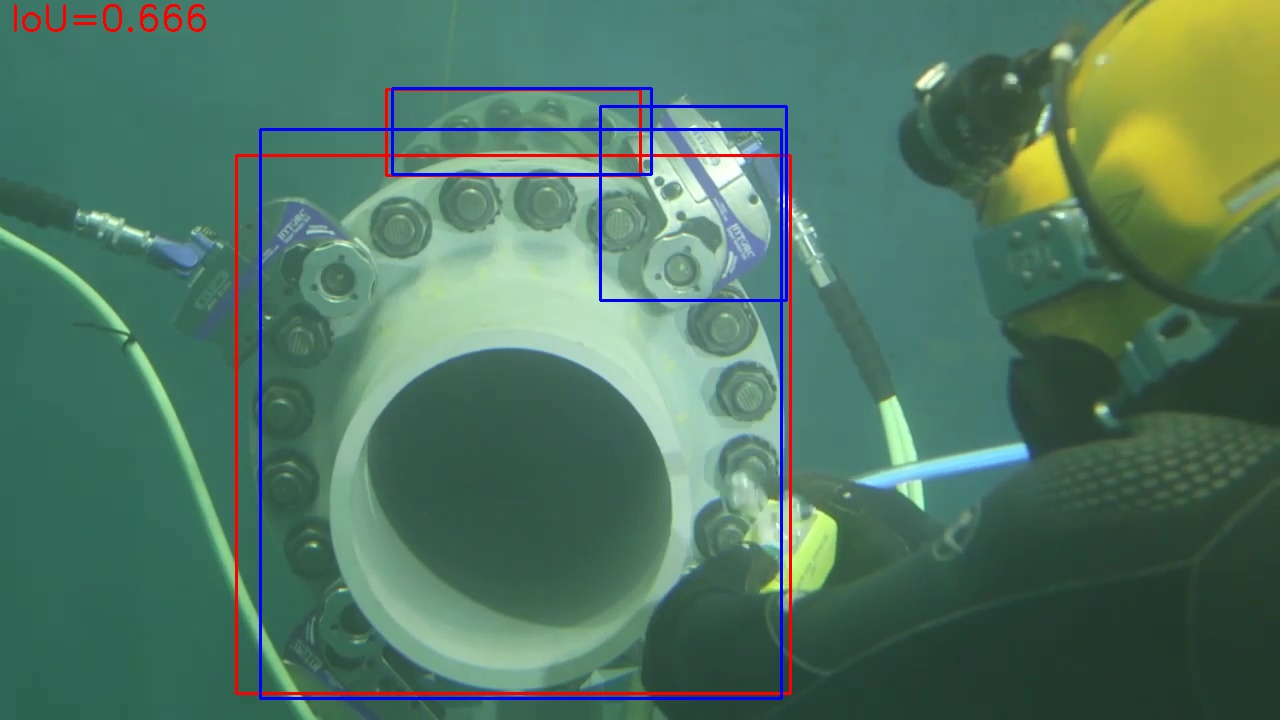flange joint: (237, 156, 790, 693), (387, 90, 640, 175)
